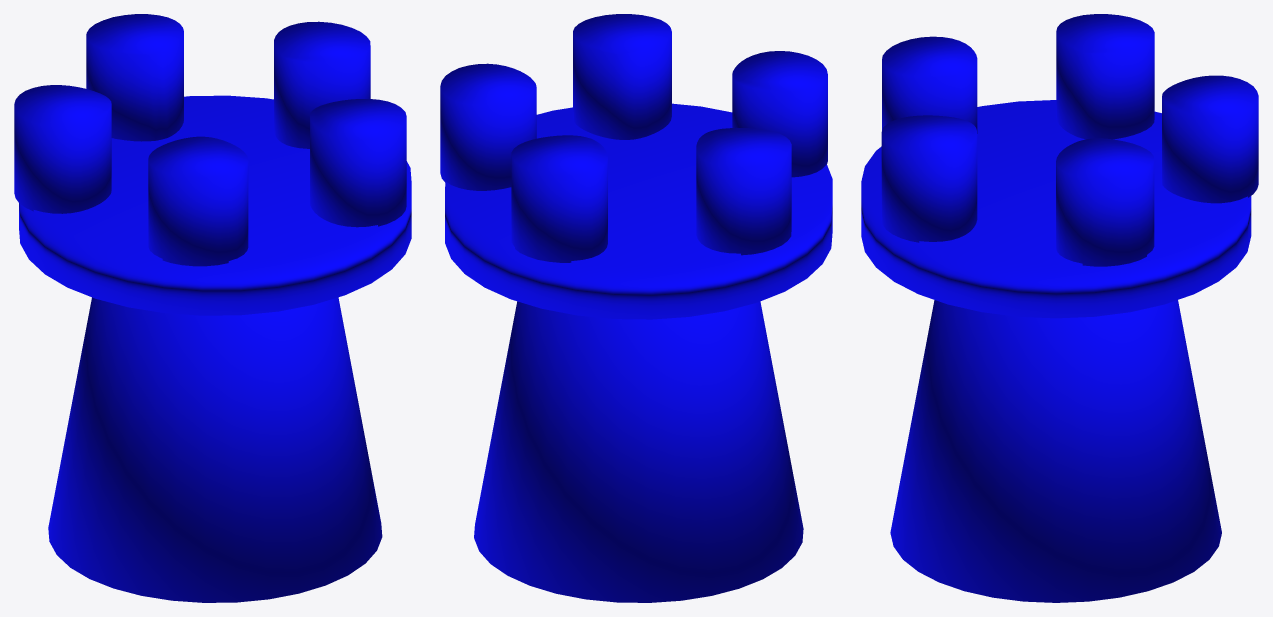
The model's file is Simple.fbx.
3 views of the same model, side by side, from view 1: azimuth 30°, elevation 25°; view 2: azimuth 150°, elevation 25°; view 3: azimuth 270°, elevation 25° (orthographic).
Parts seen in each view (by area): view 1: Cylinder, Cylinder.002, Cylinder.001; view 2: Cylinder, Cylinder.002, Cylinder.001; view 3: Cylinder, Cylinder.002, Cylinder.001.
Part boxes in pixels (box(x1,y1,x2,y2)): Cylinder: box(48, 297, 382, 602); Cylinder.002: box(14, 14, 406, 266); Cylinder.001: box(19, 95, 411, 315); Cylinder: box(474, 301, 803, 602); Cylinder.002: box(440, 14, 827, 262); Cylinder.001: box(445, 103, 832, 319); Cylinder: box(890, 300, 1221, 602); Cylinder.002: box(881, 14, 1258, 266); Cylinder.001: box(861, 100, 1251, 318).
Size of the model in its own units: 137 by 169 by 140.
